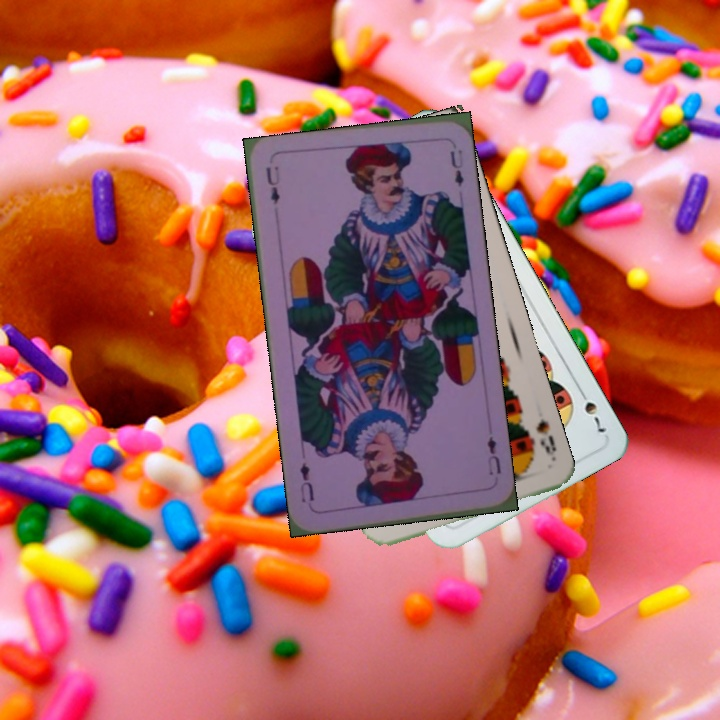EU: (483, 432, 504, 478), (262, 162, 283, 207)
S7: (574, 383, 610, 436)
S8: (532, 414, 559, 464)
